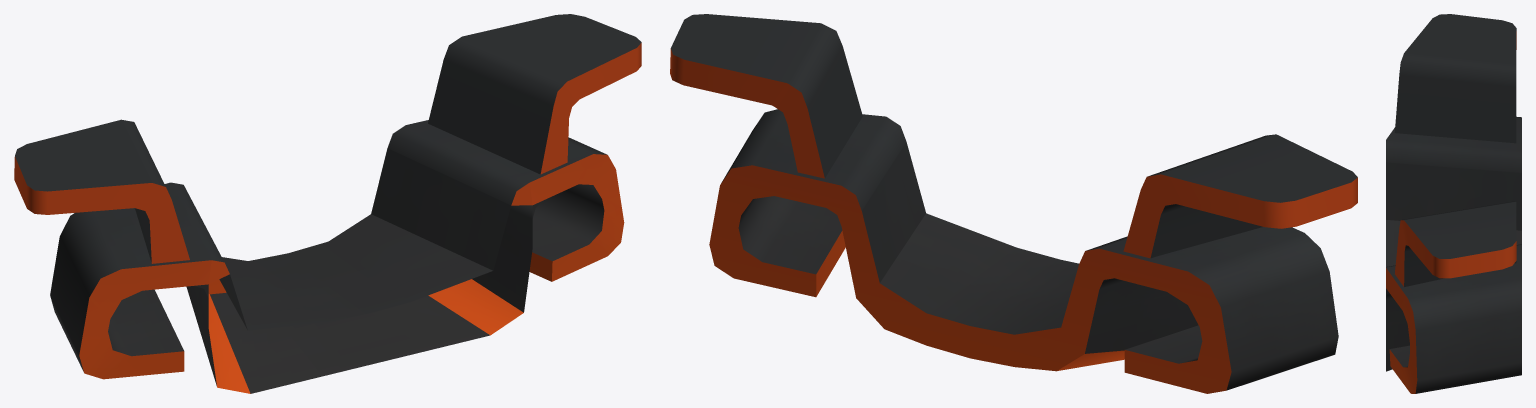
The model's file is Car_06_RearBumper_Cool.fbx.
3 views of the same model, side by side, from view 1: azimuth 30°, elevation 25°; view 2: azimuth 150°, elevation 25°; view 3: azimuth 270°, elevation 25° (orthographic). The views are drawn at different scales.
Parts seen in each view (by area): view 1: Car_06_RearBumper_Cool; view 2: Car_06_RearBumper_Cool; view 3: Car_06_RearBumper_Cool.
Boxes of the visible parts, <box> form: Car_06_RearBumper_Cool: <box>14,14,641,393</box>; Car_06_RearBumper_Cool: <box>670,14,1357,393</box>; Car_06_RearBumper_Cool: <box>1386,14,1521,393</box>.
Size of the model in its own units: 139 by 32.5 by 49.83.
